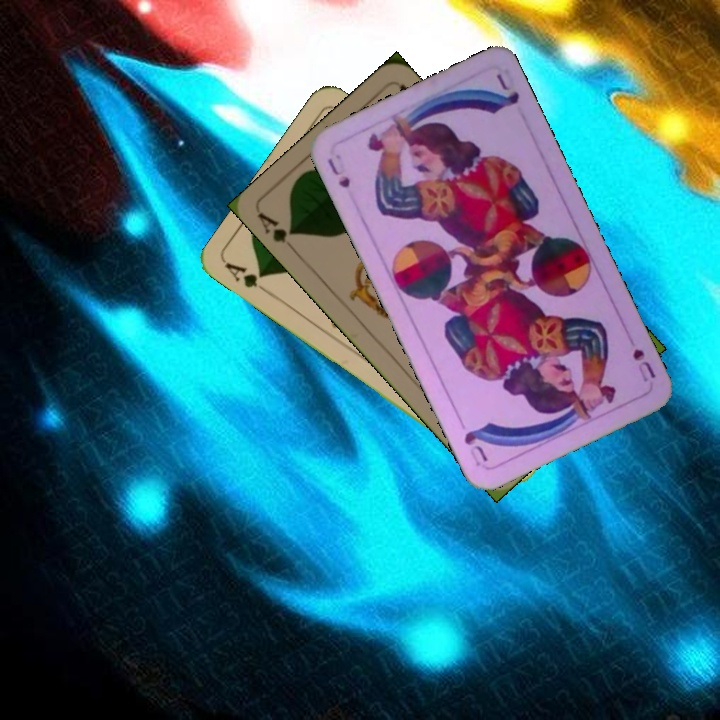GA: (253, 208, 301, 257), (221, 259, 274, 299)
SU: (628, 344, 659, 385), (323, 154, 353, 191)
